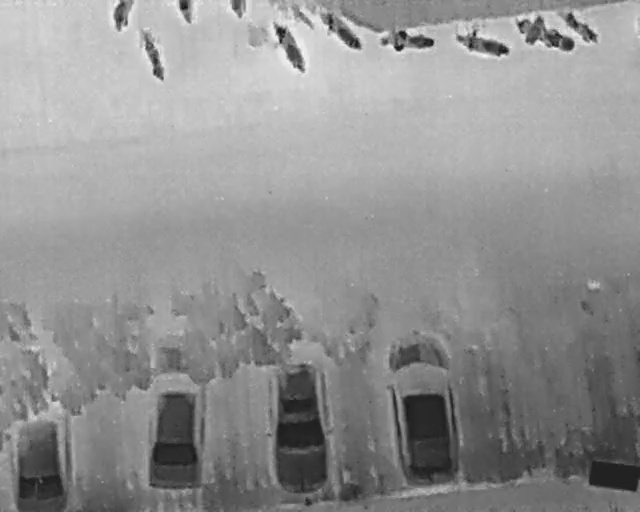Bicycle: (505, 3, 584, 65), (307, 1, 368, 59), (264, 13, 313, 81), (449, 20, 514, 63), (553, 4, 606, 50), (374, 24, 437, 57), (138, 28, 170, 85), (110, 0, 135, 34), (177, 0, 196, 27), (229, 0, 248, 20)
Car: (377, 319, 474, 495), (258, 354, 341, 501), (141, 346, 215, 493), (10, 392, 80, 510)
